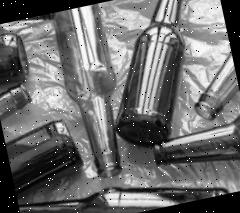glass: (87, 0, 220, 153), (47, 3, 134, 186), (18, 155, 230, 213), (2, 116, 84, 194), (149, 120, 240, 188), (184, 44, 240, 120)
